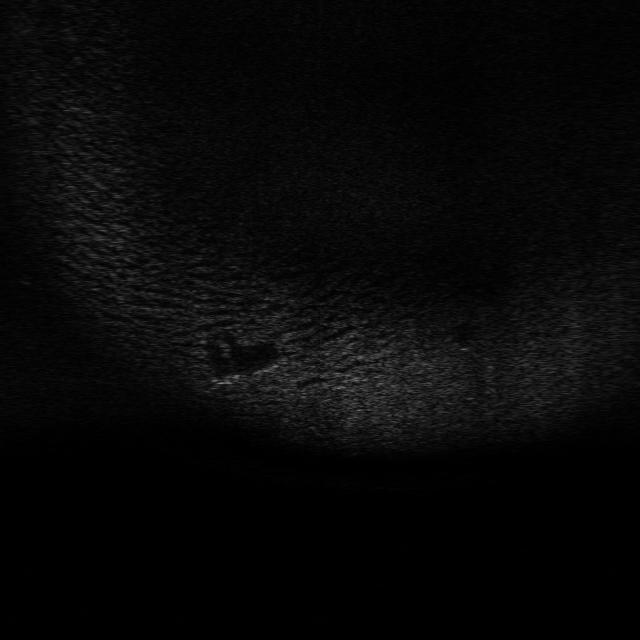plane: (203, 361, 283, 389)
